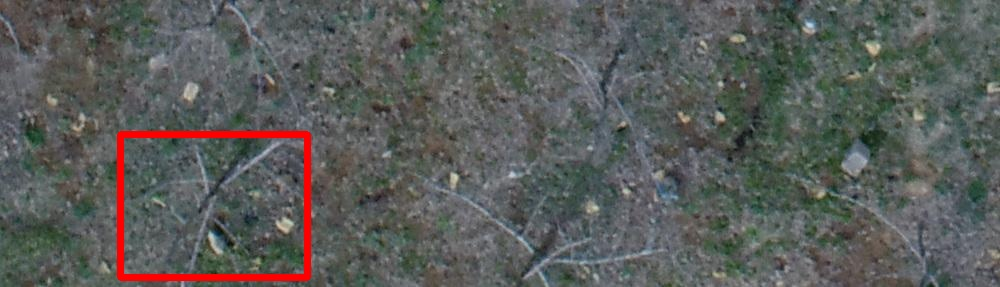apple: (120, 134, 307, 277)
